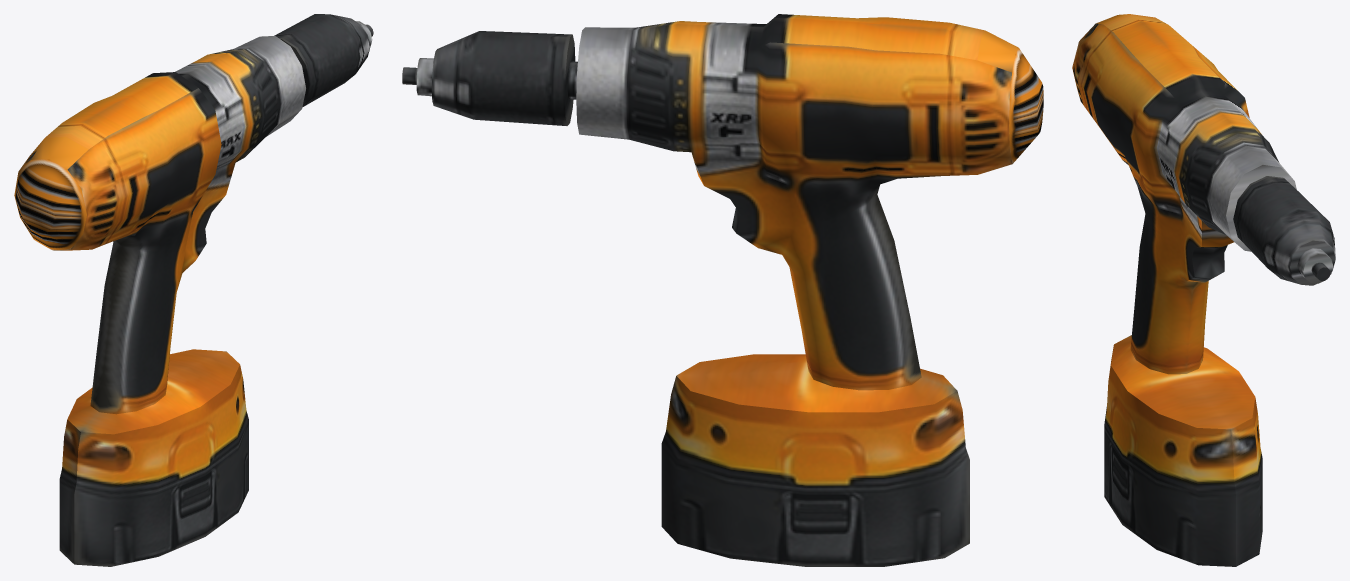
Rendered from drill.fbx.
The picture shows the model from 3 angles, left to right: view 1: azimuth 30°, elevation 25°; view 2: azimuth 150°, elevation 25°; view 3: azimuth 270°, elevation 25°; orthographic projection. The views are drawn at different scales.
Visible parts, largest first — view 1: drill; view 2: drill; view 3: drill.
Boxes of the visible parts, x1,y1,x2,y2 form: drill: (14,14,373,566); drill: (402,14,1043,566); drill: (1072,14,1335,566).
Bounding box in the file's own units: 0.4762 × 0.4464 × 0.2374.
